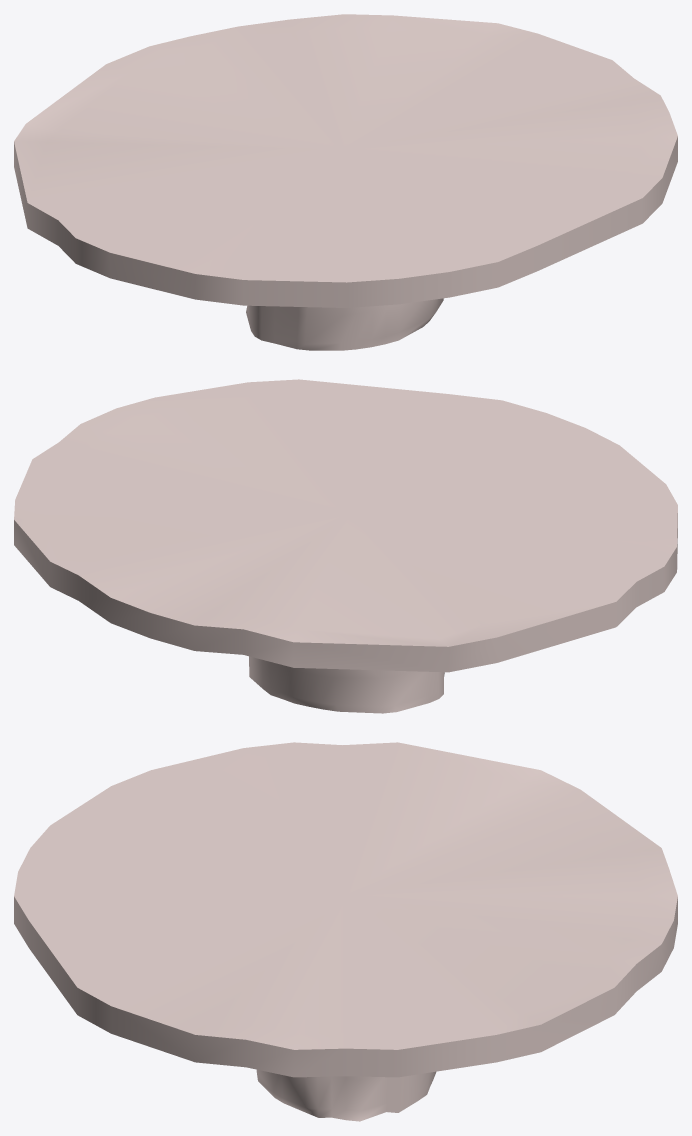
The model's file is stone_table.fbx.
The picture shows the model from 3 angles, top to bottom: view 1: azimuth 30°, elevation 25°; view 2: azimuth 150°, elevation 25°; view 3: azimuth 270°, elevation 25°; orthographic projection. The views are drawn at different scales.
Parts seen in each view (by area): view 1: stone_table; view 2: stone_table; view 3: stone_table.
Part boxes in pixels (bbox=[...]): stone_table: bbox=[14, 14, 677, 350]; stone_table: bbox=[14, 379, 677, 713]; stone_table: bbox=[14, 742, 677, 1121].
Bounding box in the file's own units: 0.1033 × 0.0285 × 0.0943.
